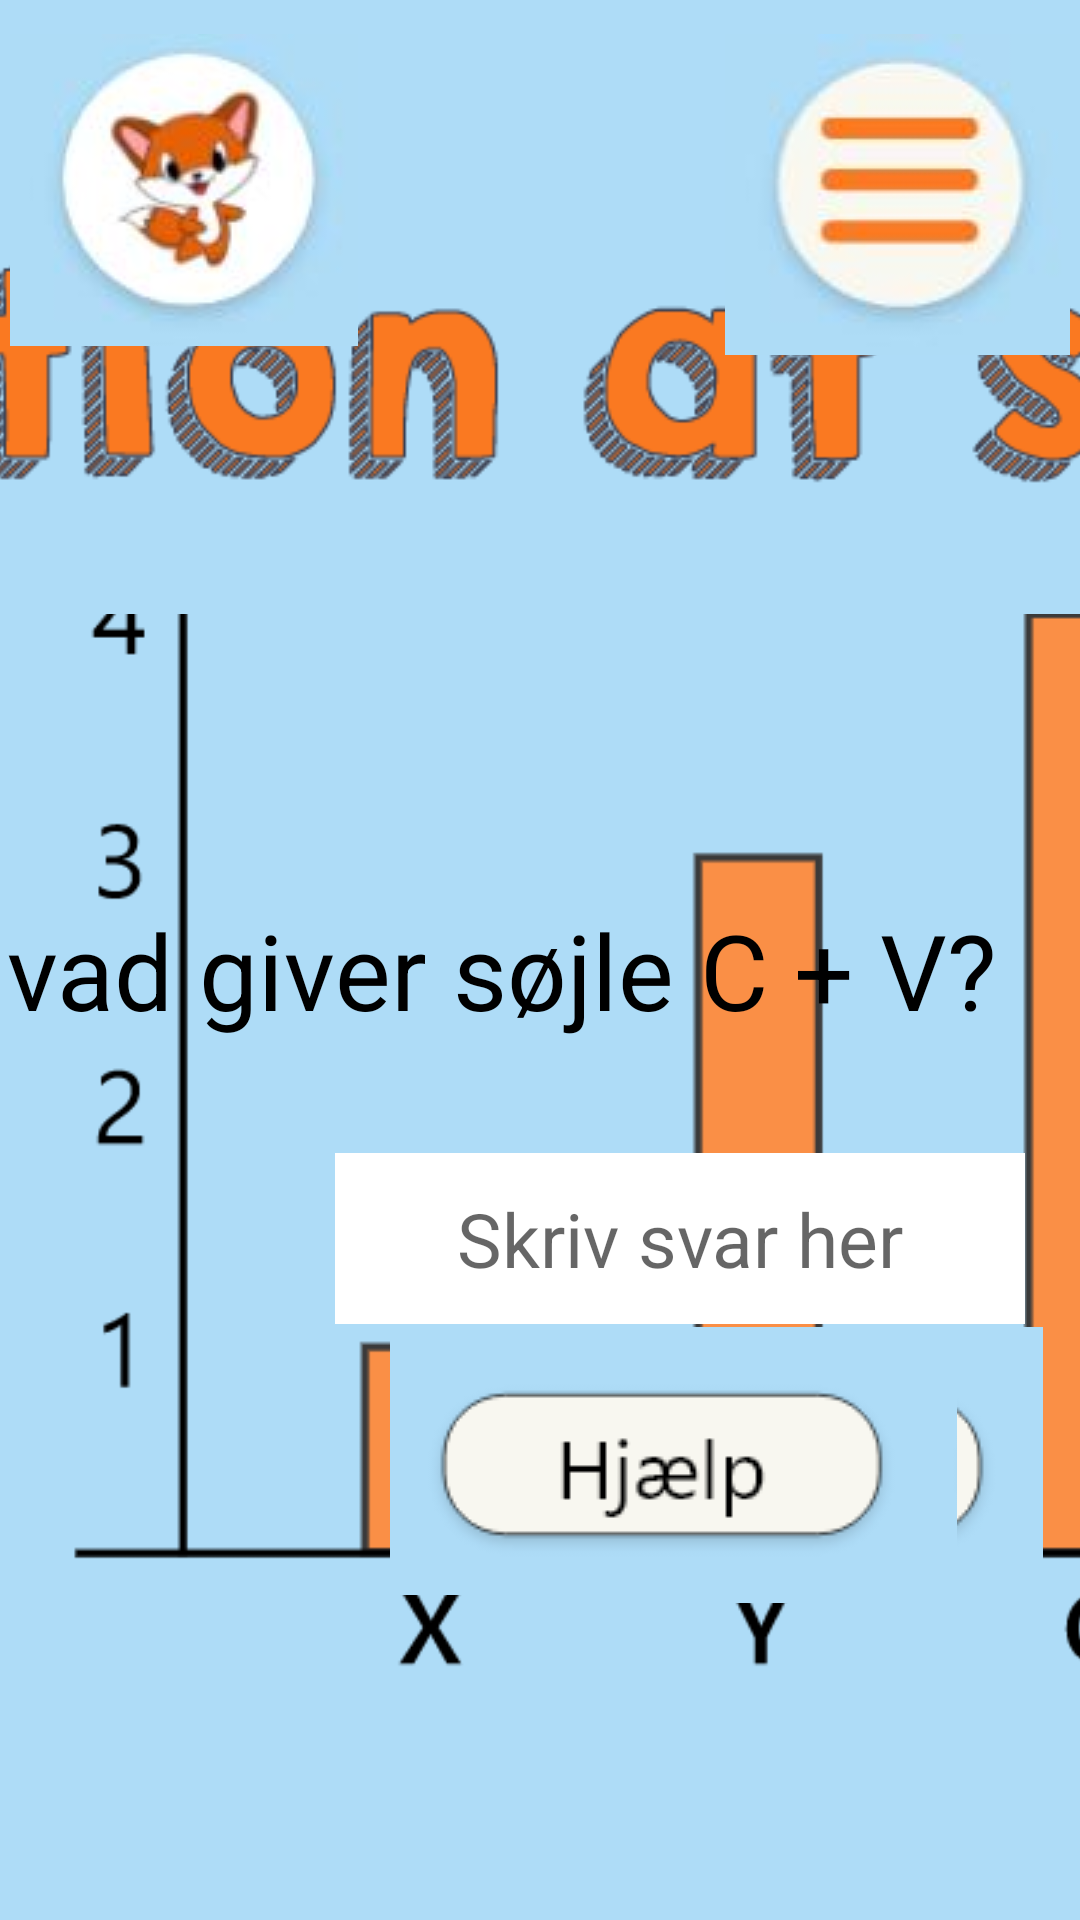

Icons on this 1080 × 1920 Android screen, each with the point to tap as (x,y):
dinprofil: (188,183)
menubtn: (900,188)
